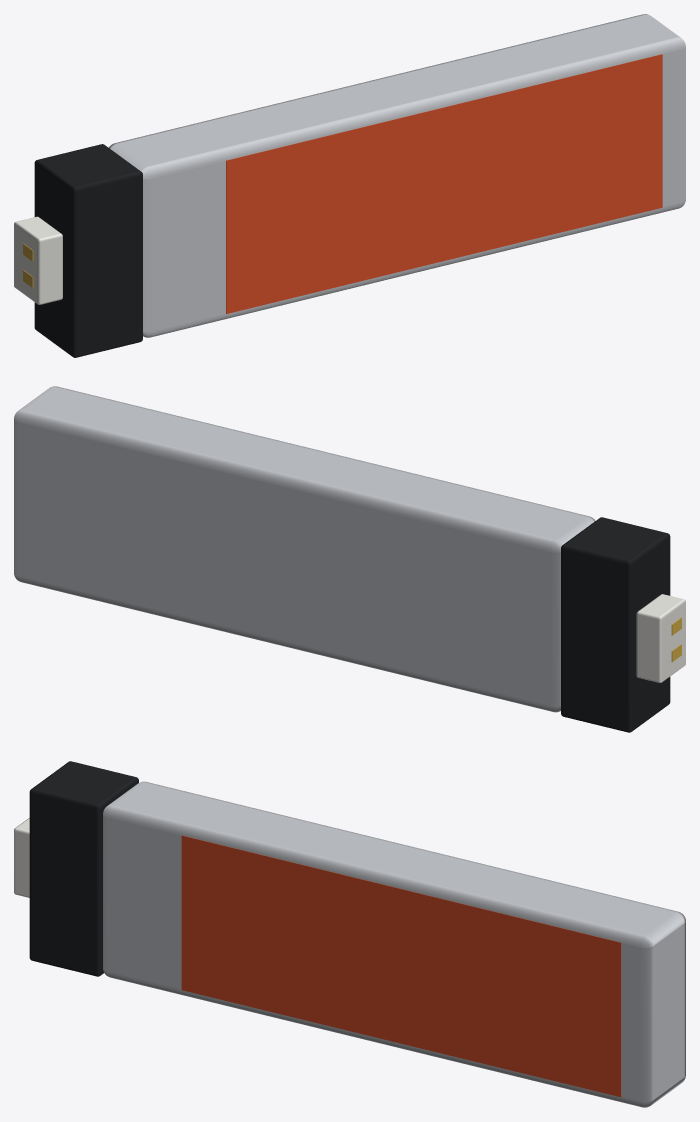
The model's file is betafpv-lava-1s-450.glb.
The picture shows the model from 3 angles, top to bottom: view 1: azimuth 30°, elevation 25°; view 2: azimuth 150°, elevation 25°; view 3: azimuth 330°, elevation 25°; orthographic projection.
Visible parts, largest first — view 1: label, body, connector_housing, connector; view 2: body, connector_housing, connector; view 3: label, body, connector_housing, connector.
Boxes of the visible parts, x1,y1,x2,y2 form: label: (226,54,662,313); body: (109,14,685,337); connector_housing: (34,144,142,357); connector: (14,216,62,304); body: (14,386,595,712); connector_housing: (561,517,670,732); connector: (636,594,685,682); label: (181,835,621,1097); body: (103,781,685,1107); connector_housing: (29,761,138,976); connector: (14,818,29,897).
Bounding box in the file's own units: 61.05 × 15.5 × 6.73.
